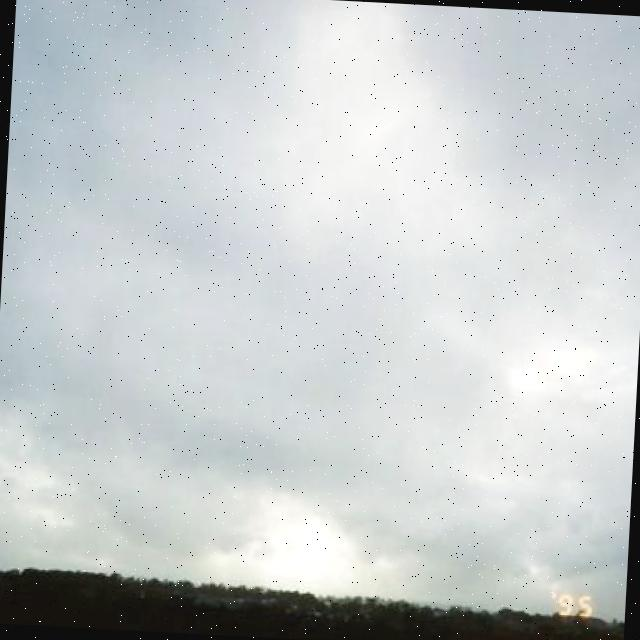St: (1, 16, 640, 542)
